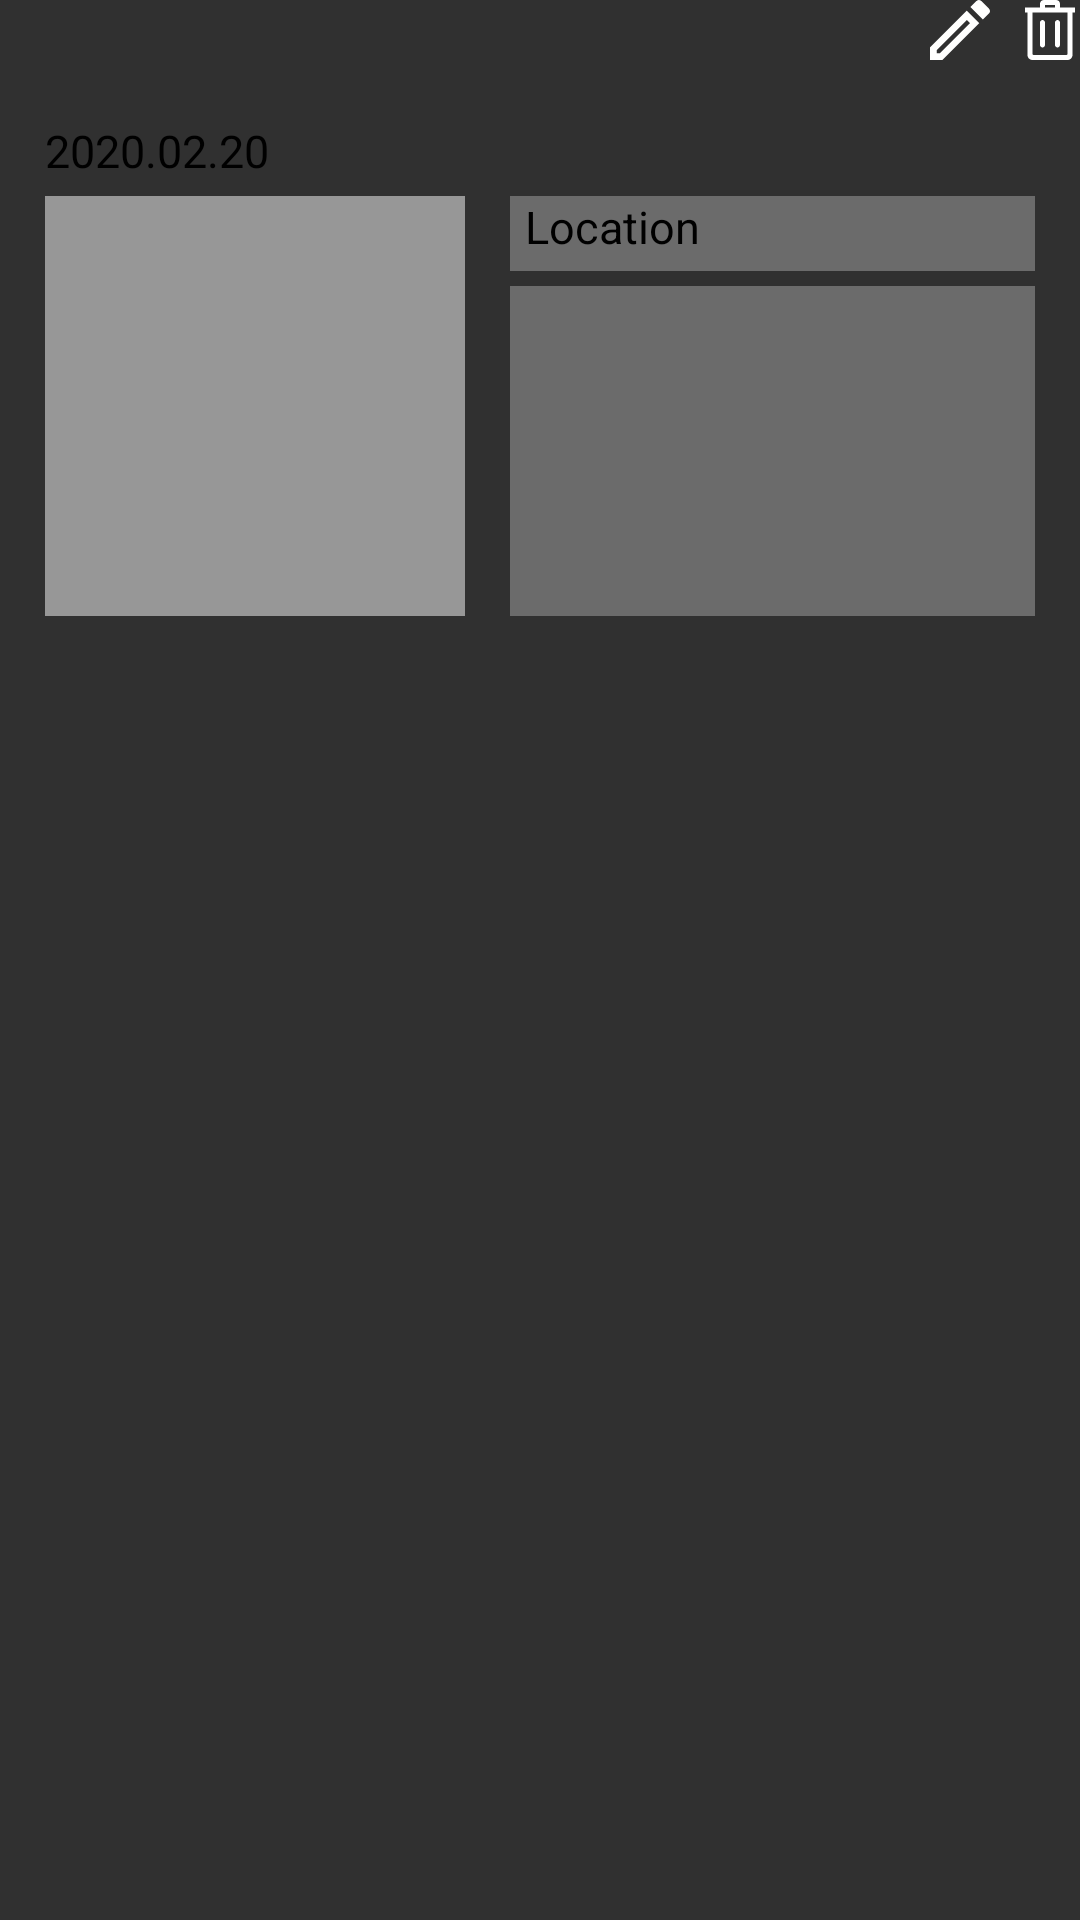

Icons on this 1080px x 1920px Android screen, each with its box as rect(x1, y1, x2, y2):
edit: rect(930, 0, 990, 60)
iconmonstr trash can: rect(1025, 0, 1075, 60)
